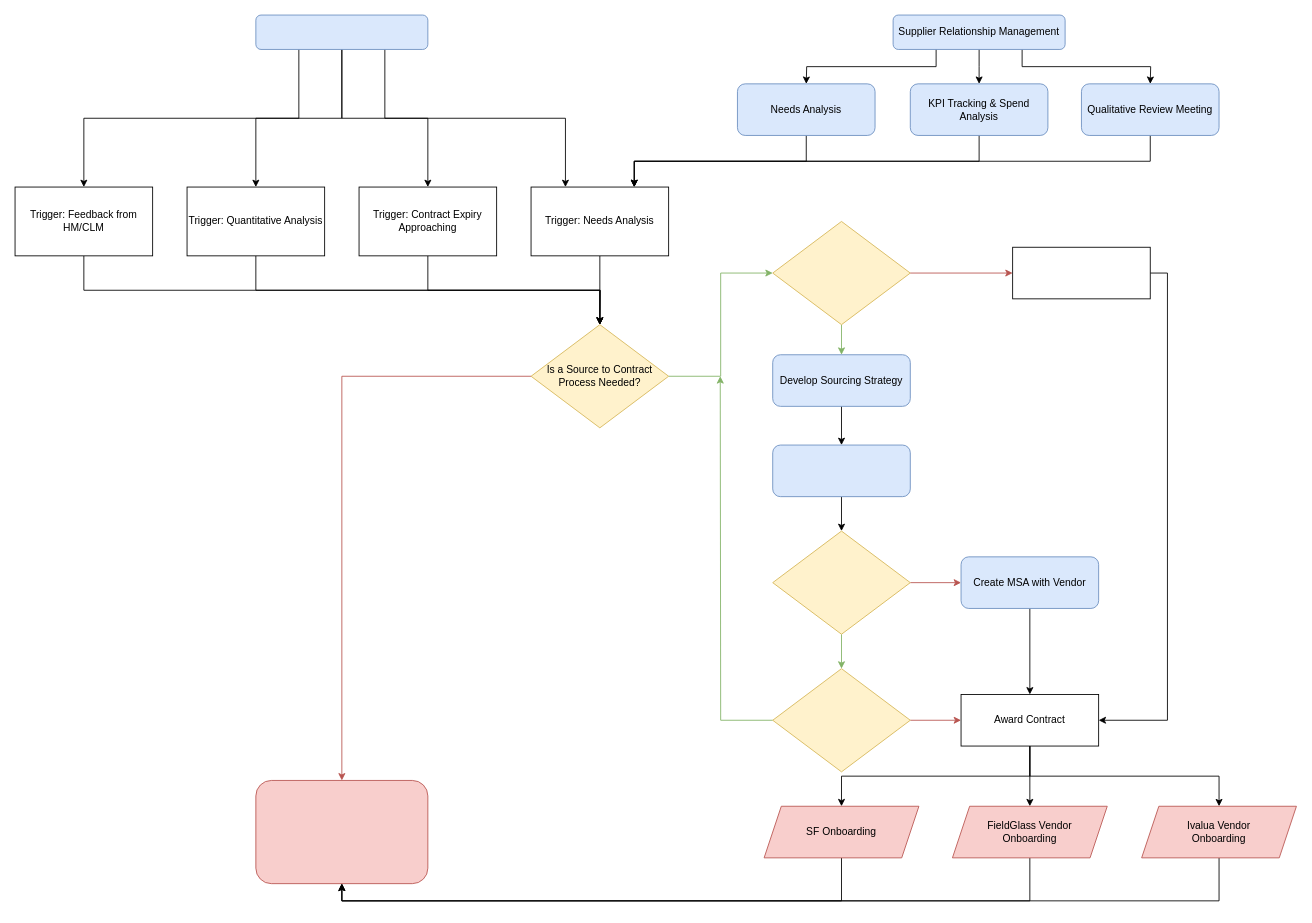
Some shapes in this 1312 by 923 pixel diagram are drawn without their labels. Each missing label, with the centre of its shape:
"Does Tender Fail?" belongs at pixel 841 720.
"End Process" belongs at pixel 341 832.
"Is Category Review Required?" belongs at pixel 841 273.
"Is there an MSA?" belongs at pixel 841 582.
"Needs Analysis & Monitoring" belongs at pixel 341 31.
"Negotiate Contract" belongs at pixel 841 470.
"Use Existing Vendors" belongs at pixel 1081 272.
